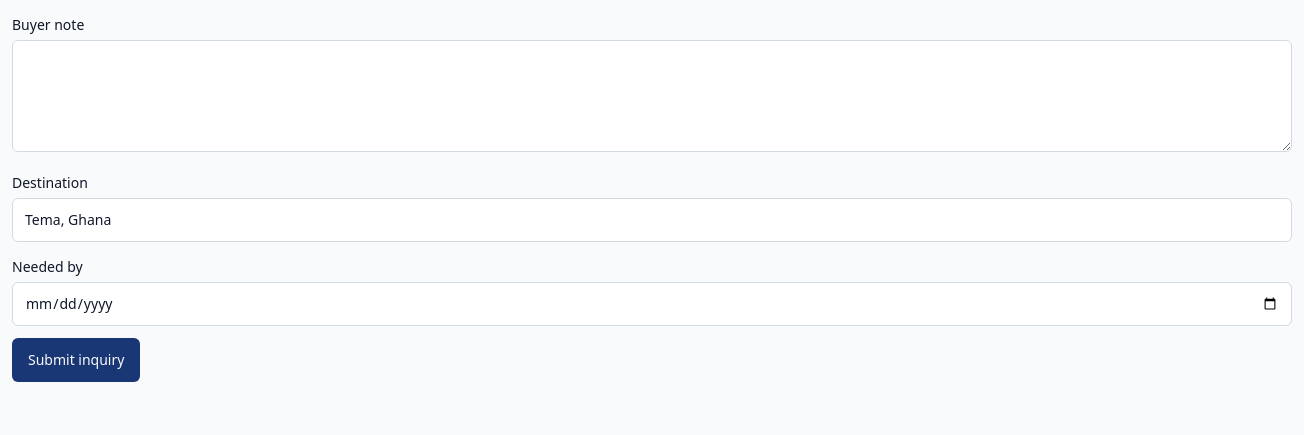
Test: submit inquiry › shows the empty-list error from the API
This screenshot has width=1304, height=435.
Click the button "Submit inquiry" at (76, 360), box [12, 338, 140, 382]
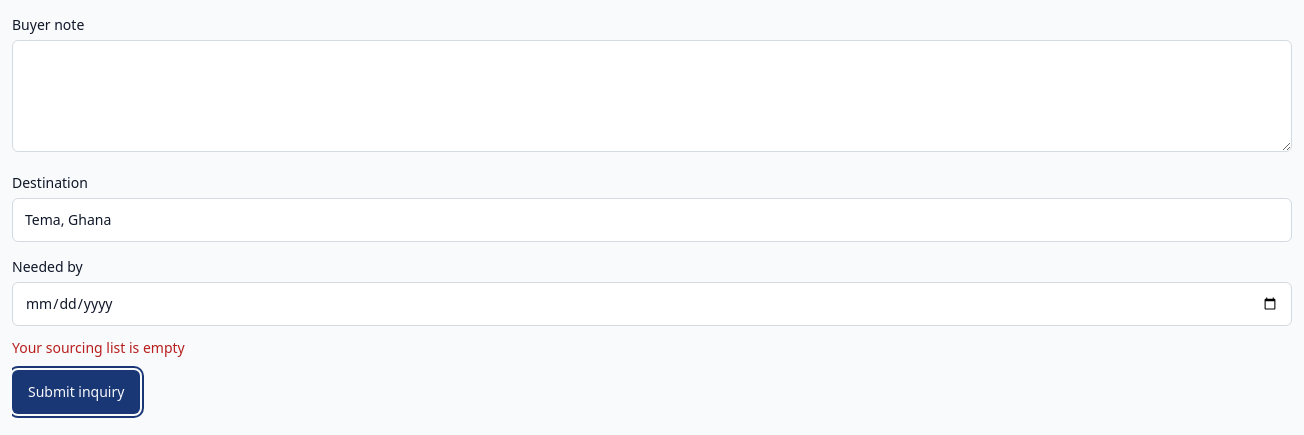
expect the message reads "Your sourcing list is empty": met, box [12, 338, 185, 357]
